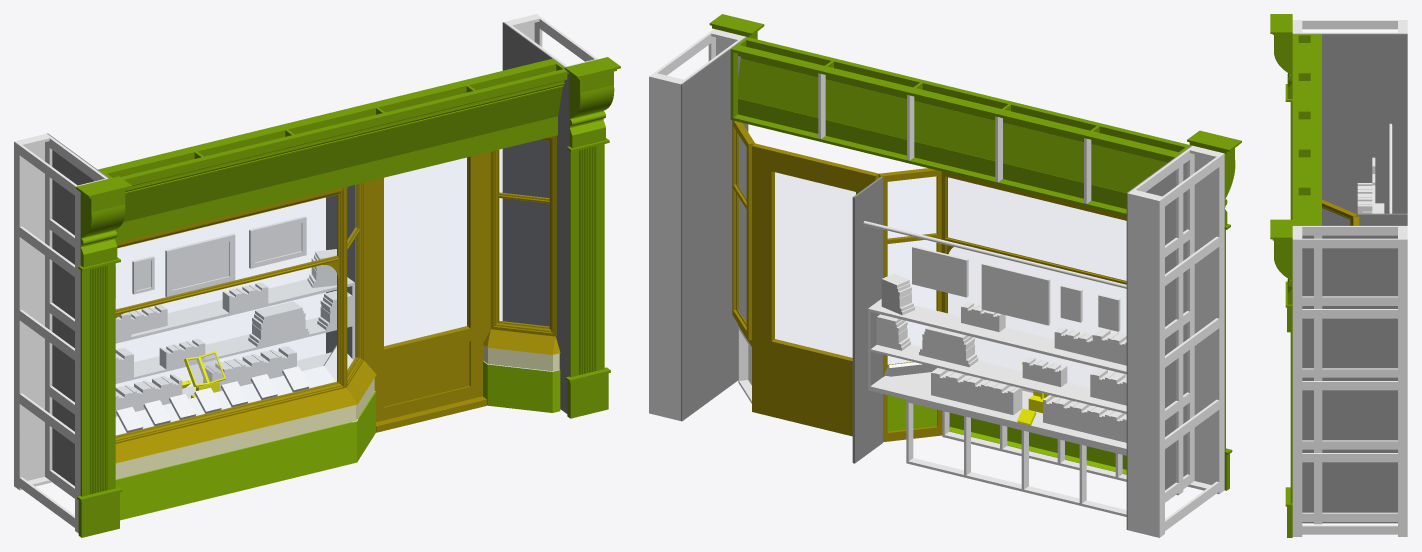
File: ldn_shop_front.glb
3 views of the same model, side by side, from view 1: azimuth 30°, elevation 25°; view 2: azimuth 150°, elevation 25°; view 3: azimuth 270°, elevation 25° (orthographic). The views are drawn at different scales.
Parts seen in each view (by area): view 1: Material2 (×50); view 2: Material2 (×40); view 3: Material2 (×30).
Part boxes in pixels (x1,y1,x2,y2): Material2 (×50): (14,22,620,537); Material2 (×40): (649,14,1241,537); Material2 (×30): (1270,14,1407,537).
Size of the model in its own units: 173 by 109 by 44.9.
